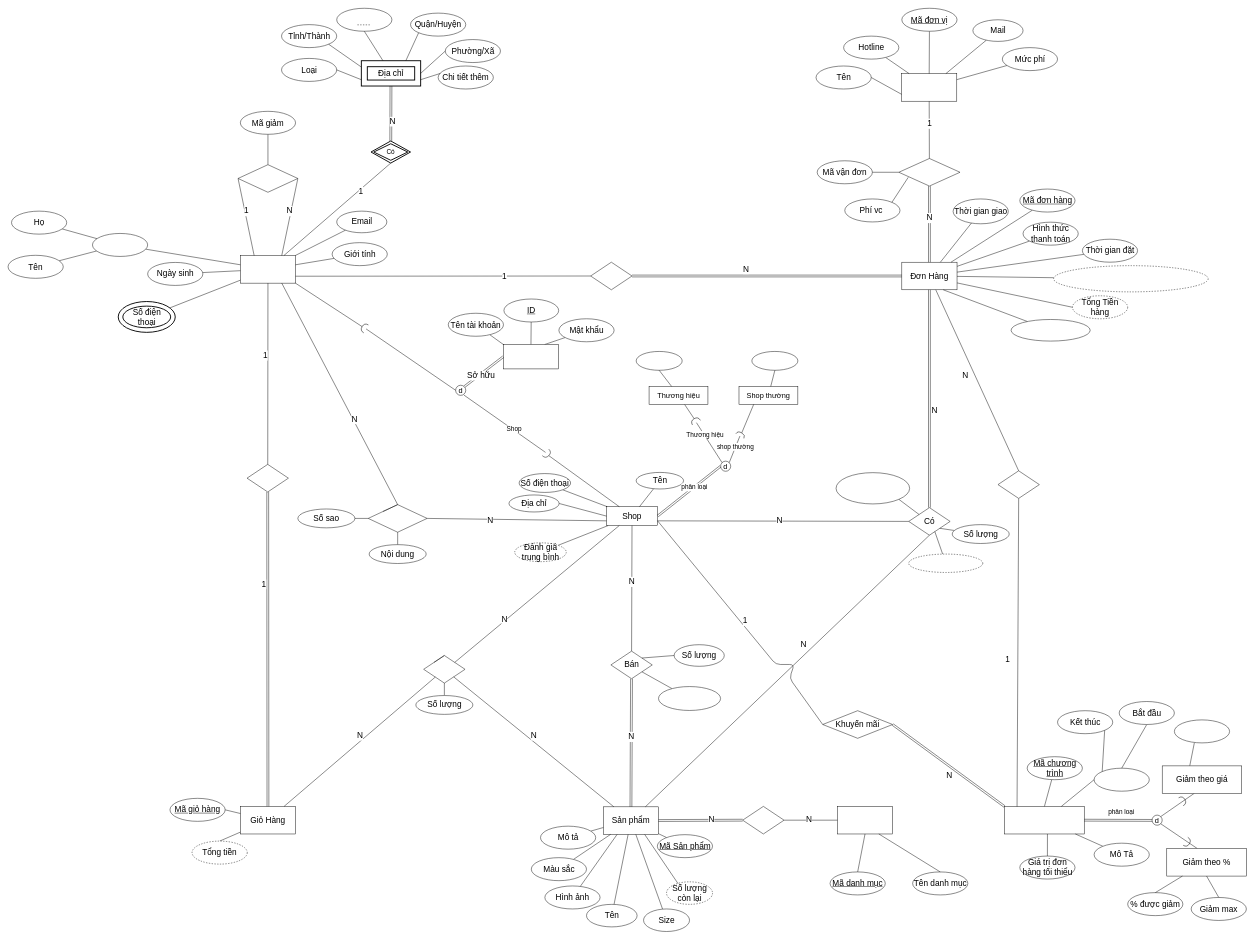
The diagram is 1254 pixels wide and 939 high, and some of its shapes have lost their labels. Here are the shapes that lost their labels. From the top down, the box of each, then its label:
(336, 8, 392, 31): STT
(901, 73, 957, 101): Đơn vị vận chuyển
(238, 164, 298, 192): Giới thiệu
(898, 158, 960, 186): Vận Chuyển
(92, 233, 148, 256): Họ và Tên
(240, 255, 296, 283): Khách Hàng
(590, 262, 632, 290): Đặt
(1053, 265, 1208, 292): Tổng tiền cả ship và khuyến mãi
(1011, 319, 1090, 341): Tình trạng đơn hàng
(503, 344, 558, 369): Tài khoản
(636, 351, 682, 370): Sản phẩm chuyên về
(751, 351, 798, 370): Loại shop sỉ/lẻ
(247, 464, 288, 492): Giữ
(836, 472, 910, 504): Đơn giá sản phẩm
(998, 470, 1039, 498): Chọn
(368, 504, 427, 532): Đánh giá
(908, 554, 983, 572): Giá thanh toán
(423, 655, 465, 683): Thêm
(658, 686, 721, 710): Giá mỗi loại sp
(1174, 719, 1230, 743): Tiền được giảm
(1094, 768, 1149, 791): Thời gian diễn ra
(742, 806, 784, 834): Thuộc
(837, 806, 893, 834): Danh mục
(1004, 806, 1084, 834): Chương Trình Khuyễn Mãi
